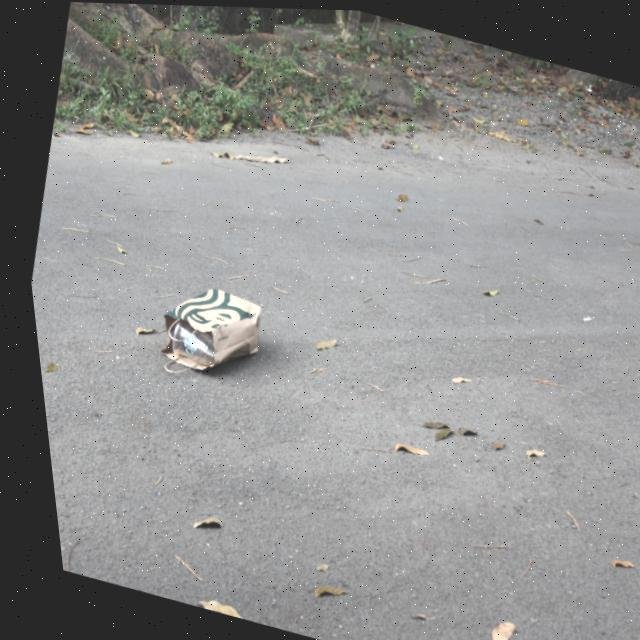Paper_Bag: (140, 274, 266, 394)
